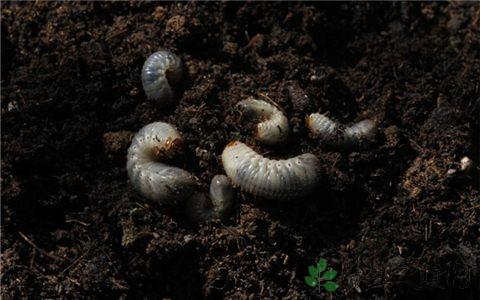grub: (306, 102, 379, 149)
